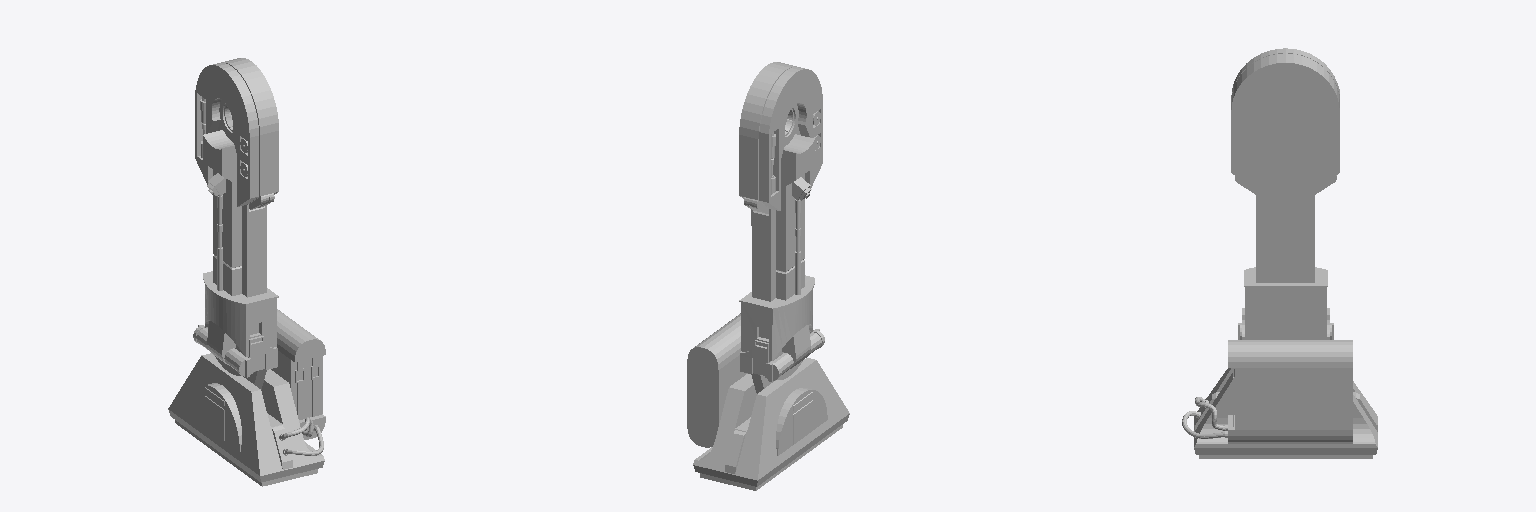
Rendered from pata izquierda color 2.obj.
3 renders of one model, left to right at view 1: azimuth 30°, elevation 25°; view 2: azimuth 150°, elevation 25°; view 3: azimuth 270°, elevation 25°, orthographic.
Visible parts, largest first — view 1: pata_izquierda_2; view 2: pata_izquierda_2; view 3: pata_izquierda_2.
Part boxes in pixels (left/top/right/bottom): pata_izquierda_2: left=168, top=58, right=325, bottom=486; pata_izquierda_2: left=687, top=62, right=849, bottom=490; pata_izquierda_2: left=1182, top=48, right=1377, bottom=458.
Size of the model in its own units: 1.9 by 7.9 by 3.65.